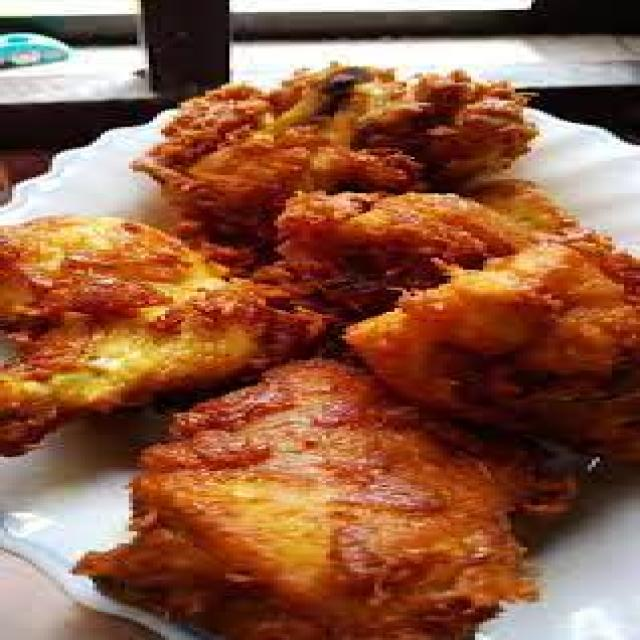Frango: (114, 375, 491, 640), (167, 88, 518, 337), (355, 233, 640, 472), (0, 212, 266, 426)
